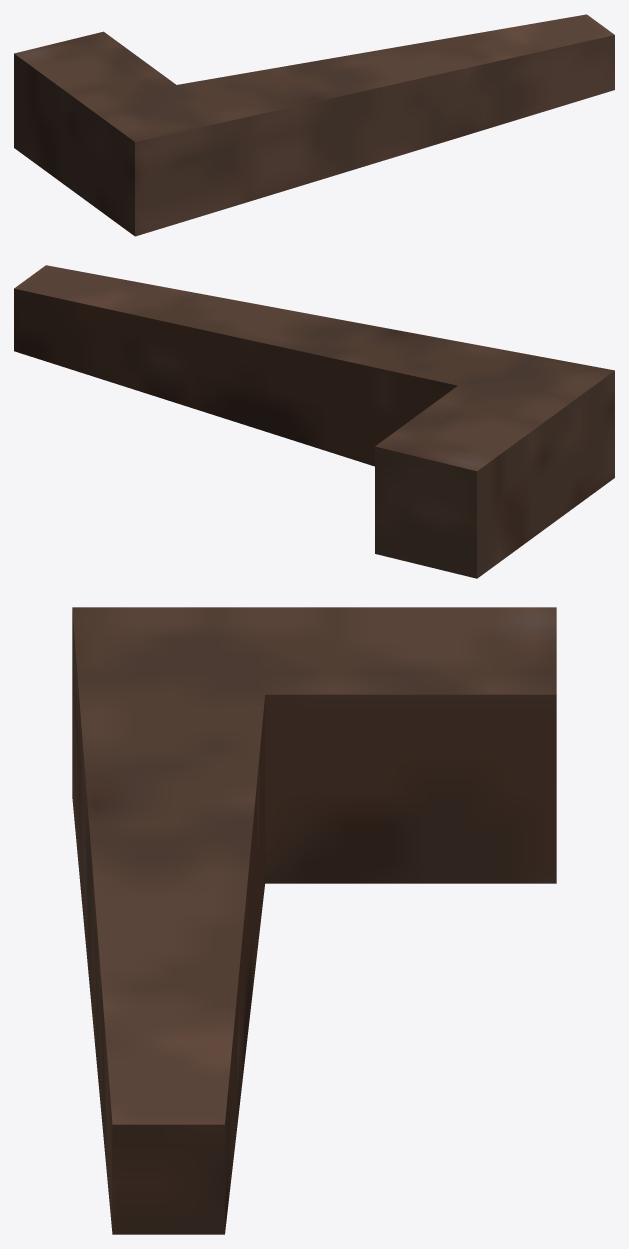
File: ruchka.fbx
The picture shows the model from 3 angles, top to bottom: view 1: azimuth 30°, elevation 25°; view 2: azimuth 150°, elevation 25°; view 3: azimuth 270°, elevation 25°; orthographic projection. The views are drawn at different scales.
Visible parts, largest first — view 1: Plane.001; view 2: Plane.001; view 3: Plane.001.
Boxes of the visible parts, x1,y1,x2,y2 form: Plane.001: (14, 14, 614, 236); Plane.001: (14, 265, 614, 578); Plane.001: (72, 607, 556, 1234).
Bounding box in the file's own units: 17.61 × 3.24 × 7.54.
1 material, 1 textured.
